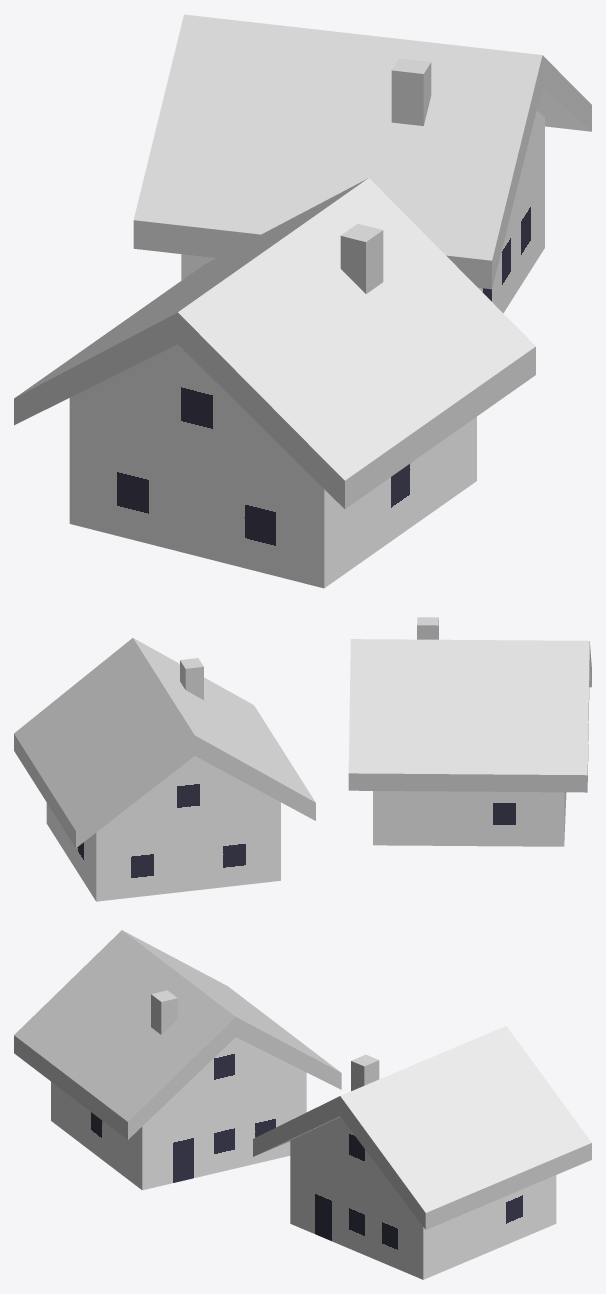
File: unipoldom1.fbx
3 views of the same model, one above another, from view 1: azimuth 30°, elevation 25°; view 2: azimuth 150°, elevation 25°; view 3: azimuth 270°, elevation 25° (orthographic). The views are drawn at different scales.
Parts seen in each view (by area): view 1: dach_1, dach, bryla, bryla_1, cuboid_1, cuboid; view 2: dach, dach_1, bryla_1, bryla, cuboid_1, cuboid; view 3: dach_1, dach, bryla_1, bryla, cuboid, cuboid_1.
Part boxes in pixels (x1,y1,x2,y2): dach_1: (133, 14, 591, 289); dach: (14, 178, 535, 508); bryla: (69, 344, 476, 588); bryla_1: (181, 110, 544, 313); cuboid_1: (391, 58, 431, 125); cuboid: (340, 223, 383, 293); dach: (348, 639, 591, 792); dach_1: (14, 638, 315, 847); bryla_1: (46, 756, 280, 901); bryla: (373, 791, 566, 846); cuboid_1: (180, 658, 203, 699); cuboid: (417, 617, 438, 639); dach_1: (253, 1026, 591, 1229); dach: (14, 930, 341, 1139); bryla_1: (290, 1117, 556, 1279); bryla: (51, 1037, 306, 1190); cuboid: (151, 990, 177, 1034); cuboid_1: (351, 1054, 379, 1091).
Size of the model in its own units: 286 by 96.25 by 307.
Materials: 1 (1 with a texture image).
